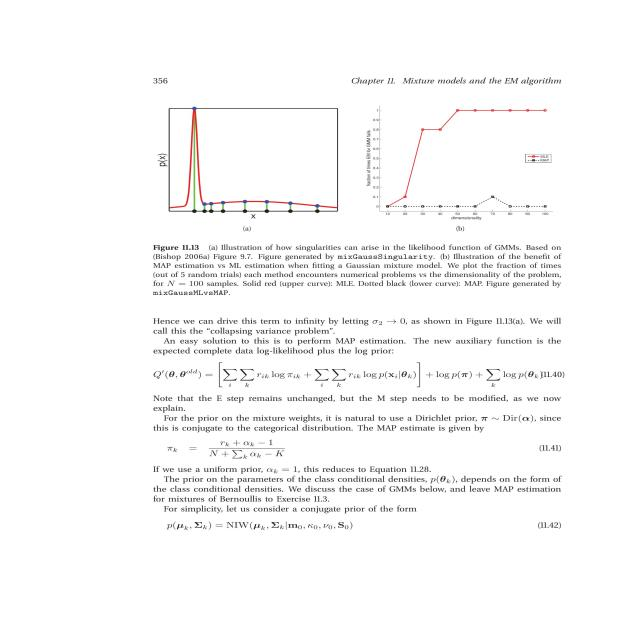diagram: (130, 90, 588, 300)
